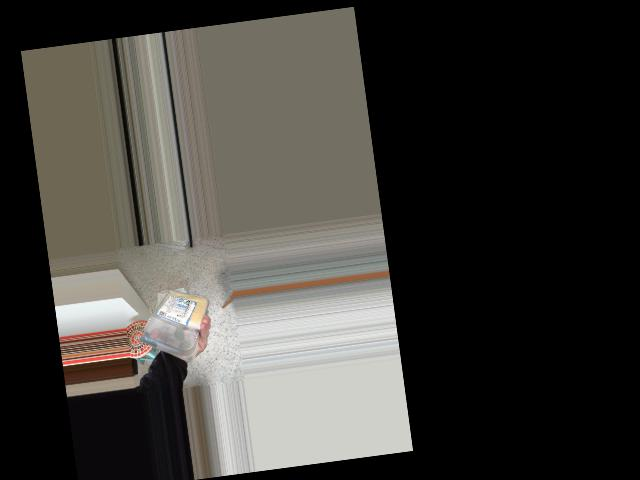cheese: (132, 281, 206, 363)
